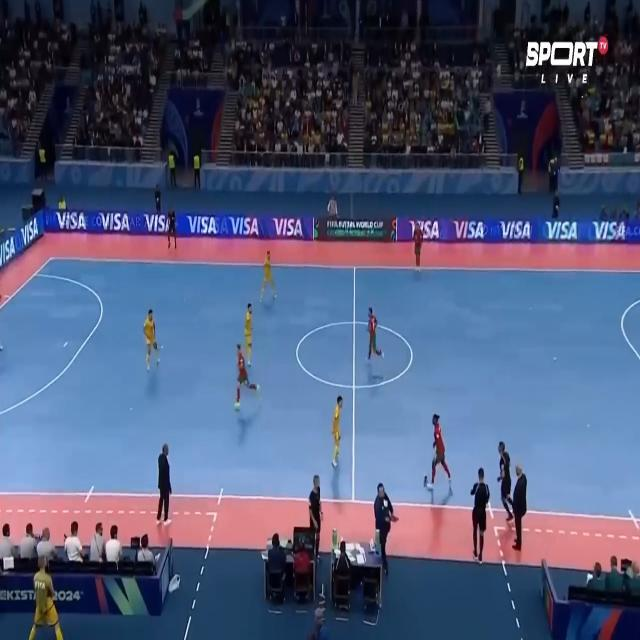Ball: (423, 473, 430, 484)
Field: (0, 256, 640, 519), (421, 409, 452, 496), (233, 347, 259, 405), (327, 393, 345, 462), (256, 249, 278, 302), (141, 308, 161, 364), (367, 306, 382, 364), (243, 302, 257, 358)
Referee: (471, 468, 489, 556), (498, 441, 511, 515), (306, 474, 323, 525), (410, 222, 426, 264), (168, 208, 178, 248)
